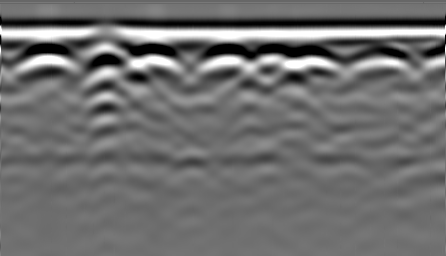pipe: (283, 42, 337, 77), (127, 42, 178, 76), (358, 41, 406, 75), (23, 43, 71, 75), (209, 44, 248, 74), (86, 29, 126, 54)
